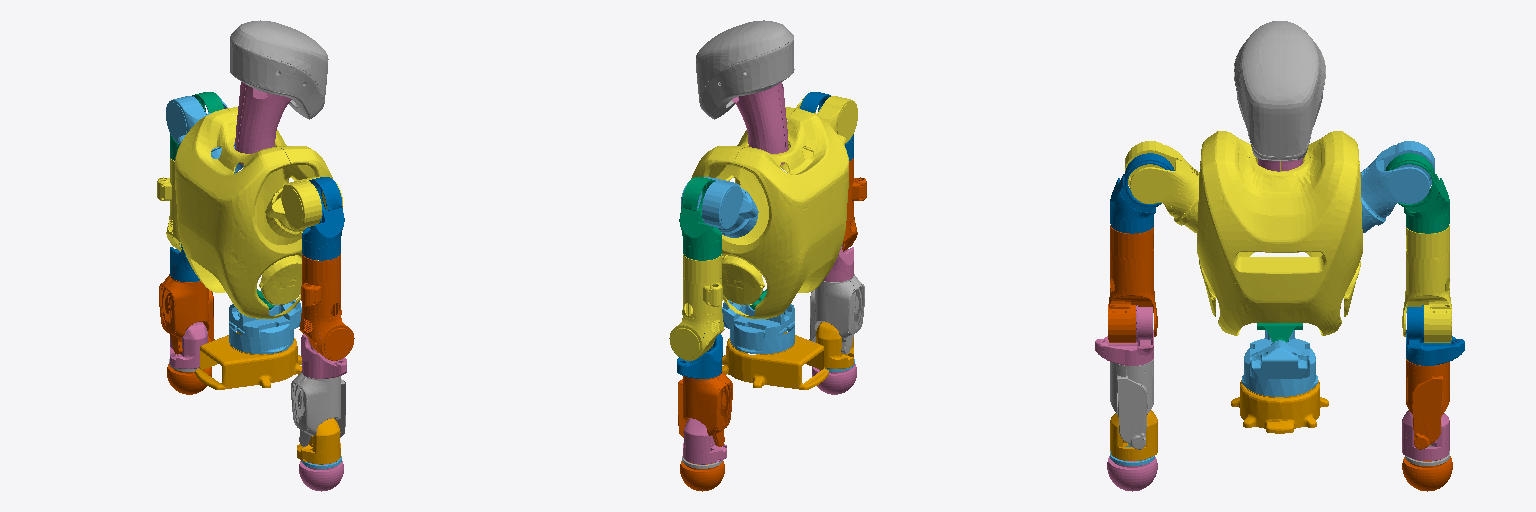
--- Facts derived from the render (not from the file) ---
3 views of the same robot in one strip: view 1: azimuth 30°, elevation 25°; view 2: azimuth 150°, elevation 25°; view 3: azimuth 270°, elevation 25° (orthographic).
Model alex_nub_hands with 31 links and 30 joints (19 revolute, 11 fixed), rooted at Pelvis, posed all joints at 0.
Links seen in each view (by area): view 1: Torso, Head, RightShoulderYawLink, Pelvis, RightWristYawLink, LeftWristYawLink, SpineYawLink, NeckYawLink, RightShoulderPitchLink, RightShoulderRollLink, LeftShoulderPitchLink, RightWristRollLink (+7 smaller); view 2: Torso, Head, LeftShoulderYawLink, Pelvis, LeftWristYawLink, RightWristYawLink, SpineYawLink, NeckYawLink, LeftShoulderPitchLink, LeftShoulderRollLink, RightShoulderPitchLink, LeftWristRollLink (+7 smaller); view 3: Torso, Head, RightShoulderYawLink, LeftShoulderYawLink, RightShoulderPitchLink, LeftShoulderPitchLink, SpineYawLink, Pelvis, LeftWristYawLink, RightWristYawLink, LeftShoulderRollLink, RightShoulderRollLink (+7 smaller).
Boxes of the visible links, x1,y1,x2,y2 form: Torso: (175, 107, 332, 318); Head: (230, 20, 328, 119); RightShoulderYawLink: (299, 254, 354, 360); Pelvis: (195, 332, 301, 389); RightWristYawLink: (291, 371, 345, 446); LeftWristYawLink: (159, 274, 214, 354); SpineYawLink: (229, 300, 301, 353); NeckYawLink: (235, 82, 291, 164); RightShoulderPitchLink: (265, 177, 342, 237); RightShoulderRollLink: (302, 177, 344, 260); LeftShoulderPitchLink: (166, 96, 243, 173); RightWristRollLink: (297, 418, 340, 464); Torso: (691, 107, 848, 318); Head: (696, 20, 794, 119); LeftShoulderYawLink: (669, 254, 724, 360); Pelvis: (722, 332, 828, 389); LeftWristYawLink: (678, 371, 732, 446); RightWristYawLink: (809, 274, 864, 354); SpineYawLink: (722, 300, 794, 353); NeckYawLink: (732, 82, 788, 164); LeftShoulderPitchLink: (681, 177, 758, 237); LeftShoulderRollLink: (679, 177, 721, 260); RightShoulderPitchLink: (780, 96, 857, 173); LeftWristRollLink: (683, 418, 726, 464); Torso: (1197, 131, 1362, 335); Head: (1234, 21, 1325, 160); RightShoulderYawLink: (1108, 225, 1157, 342); LeftShoulderYawLink: (1402, 225, 1451, 342); RightShoulderPitchLink: (1125, 141, 1198, 232); LeftShoulderPitchLink: (1361, 141, 1434, 232); SpineYawLink: (1242, 330, 1317, 396); Pelvis: (1231, 380, 1328, 433); LeftWristYawLink: (1406, 359, 1449, 449); RightWristYawLink: (1110, 359, 1153, 449); LeftShoulderRollLink: (1385, 153, 1449, 233); RightShoulderRollLink: (1110, 153, 1174, 233).
Size in the robot's own frame: 0.3163 by 0.7309 by 1.01 metres.
22 mesh visuals loaded from 21 distinct referenced files (21 OBJ).

The robot description file, URDF, robot "alex_nub_hands":
<?xml version = "1.0" ?>
<!-- =================================================================================== -->
<!-- |    This document was autogenerated by xacro from robot.xacro                    | -->
<!-- |    EDITING THIS FILE BY HAND IS NOT RECOMMENDED                                 | -->
<!-- =================================================================================== -->
<robot name="alex_nub_hands">

		<!-- 8020 Base, Chest and Head -->
	<link name="Pelvis">
		<inertial>
			<mass value="4.074"/>
			<origin rpy="0 0 0" xyz="-0.010295 -0.001599 0.056458"/>
			<inertia ixx="0.010219858" ixy="-0.00012501" ixz="-0.001101619" iyy="0.015397437" iyz="-0.000162984" izz="0.015996955" />
		</inertial>
		<visual>
			<geometry>
				<mesh filename="package://example-robot-data/robots/alex_description/meshes/ALX02_02_A01_BaseLink.obj"/>
			</geometry>
			<origin rpy="0.0 0.0 0.0" xyz="0.0 0.0 0.0"/>
		</visual>
	<collision>
      <origin xyz="0 0 0.0" rpy="0 0 0" />
      <geometry>
        <mesh filename="package://example-robot-data/robots/alex_description/meshes/ALX02_02_A01_BaseLink.obj" />
      </geometry>
    </collision>
	</link>
	<!-- Spine Joints -->
	<joint name="SpineYaw" type="revolute">
		<origin rpy="0 0 0" xyz="0 0 0.1045" />
		<axis xyz="0 0 1" />
		<parent link="Pelvis" />
		<child link="SpineYawLink" />
		<limit effort="150" lower="-1.0472" upper="1.0472" velocity = "9.0" />
		<dynamics damping="0.05" friction="0.0"/>
    </joint>

	<joint name="SpineRoll" type="revolute">
		<origin rpy="0 0 0" xyz="-0.015 0 0.0528" />
		<axis xyz="1 0 0" />
		<parent link="SpineYawLink" />
		<child link="SpineRollLink" />
		<limit effort="150.0" lower="-0.436332" upper="0.436332" velocity = "6.0" />
		<dynamics damping="0.05" friction="0.0"/>
	</joint>

	<joint name="SpinePitch" type="revolute">
		<origin rpy="0 0 0" xyz="0 0 0.035" />
		<axis xyz="0 1 0" />
		<parent link="SpineRollLink" />
		<child link="Torso" />
		<limit effort="250.0" lower="-0.523599" upper="0.785398" velocity = "6.0" />
		<dynamics damping="0.05" friction="0.0"/>
	</joint>

	<!-- Spine Links -->
	<link name="SpineYawLink">
		<inertial>
			<mass value="1.839"/>
			<origin rpy="0 0 0" xyz="0.00785 0.001802 0.030654"/>
			<inertia ixx="0.005450626" ixy="0.000208526" ixz="-0.001171705" iyy="0.007137808" iyz="0.000116812" izz="0.006970545"/>
		</inertial>
		<visual>
			<geometry>
				<mesh filename="package://example-robot-data/robots/alex_description/meshes/ALX02_02_A04_BaseDiffLink.obj"/>
			</geometry>
			<origin rpy="0.0 0.0 0.0" xyz="0.0 0.0 0.0"/>
		</visual>
	<collision>
      <origin xyz="0 0 0.0" rpy="0 0 0" />
      <geometry>
        <mesh filename="package://example-robot-data/robots/alex_description/meshes/ALX02_02_A04_BaseDiffLink.obj" />
      </geometry>
    </collision>
	</link>

	<link name="SpineRollLink">
		<inertial>
			<mass value="0.235"/>
			<origin rpy="0 0 0" xyz="0.000674 0.000626 0.018996"/>
			<inertia ixx="0.000188204" ixy="0.000000058" ixz="0.000002065" iyy="0.000148152" iyz="-0.000002403" izz="0.000195223"/>
		</inertial>
		<visual>
			<geometry>
				<mesh filename="package://example-robot-data/robots/alex_description/meshes/ALX02_02_A05_UJointLink.obj"/>
			</geometry>
			<origin rpy="0.0 0.0 0.0" xyz="0.0 0.0 0.0"/>
		</visual>
	<collision>
      <origin xyz="0 0 0.0" rpy="0 0 0" />
      <geometry>
        <mesh filename="package://example-robot-data/robots/alex_description/meshes/ALX02_02_A05_UJointLink.obj" />
      </geometry>
    </collision>
	</link>

	<!-- Torso Link -->
	<link name="Torso">
		<inertial>
			<mass value="17.574"/>
			<origin rpy="0 0 0" xyz="0.003673 0.000059 0.160289"/>
			<inertia ixx="0.24725248" ixy="-0.000080922" ixz="0.000927935" iyy="0.158680043" iyz="0.000328726" izz="0.153487995"/>
		</inertial>
		<visual>
			<geometry>
				<mesh filename="package://example-robot-data/robots/alex_description/meshes/ALX02_02_A06_TorsoLink.obj"/>
			</geometry>
			<origin rpy="0.0 0.0 0.0" xyz="0.0 0.0 0.0"/>
		</visual>
	<collision>
      <origin xyz="0 0 0.0" rpy="0 0 0" />
      <geometry>
        <mesh filename="package://example-robot-data/robots/alex_description/meshes/ALX02_02_A06_TorsoLink.obj" />
      </geometry>
    </collision>
	</link>

	<!-- TORSO IMU's NOTE: The torso IMUs are redundant-->
	<!-- Torso Left IMU. Currently not used for anything-->
	<link name="TorsoLeftIMULink">
		<inertial>
			<mass value="0"/>
			<origin rpy="0 0 0" xyz="0 0 0"/>
			<inertia ixx="0.0" ixy="0.0" ixz="0.0" iyy="0.0" iyz="0.0" izz="0.0"/>
		</inertial>
	</link>
	<joint name="TorsoLeftIMUJoint" type="fixed">
		<origin rpy="1.5707963267948966 -0.6981317007977316 1.5707963267948961" xyz="0.07978495 0.10932294 0.17623744"/>
		<axis xyz="0 0 1"/>
		<parent link="Torso"/>
		<child link="TorsoLeftIMULink"/>
	</joint>
	<gazebo reference="TorsoLeftIMULink">
		<sensor name="TorsoLeftIMU" type="imu">
			<always_on>true</always_on>
			<imu>
				<noise>
					<type>gaussian</type>
					<rate>
						<mean>0</mean>
						<stddev>0.0002</stddev>
						<bias_mean>7.5e-06</bias_mean>
						<bias_stddev>8e-07</bias_stddev>
					</rate>
					<accel>
						<mean>0</mean>
						<stddev>0.017</stddev>
						<bias_mean>0.1</bias_mean>
						<bias_stddev>0.001</bias_stddev>
					</accel>
				</noise>
			</imu>
		</sensor>
	</gazebo>

	<!-- Torso Right IMU. Currently not used for anything-->
	<link name="TorsoRightIMULink">
		<inertial>
			<mass value="0"/>
			<origin rpy="0 0 0" xyz="0 0 0"/>
			<inertia ixx="0.0" ixy="0.0" ixz="0.0" iyy="0.0" iyz="0.0" izz="0.0"/>
		</inertial>
	</link>
	<joint name="TorsoRightIMUJoint" type="fixed">
		<origin rpy="1.5707963267948966 0.6981317007977319 1.5707963267948966" xyz="0.07978495 -0.09055680 0.16048643"/>
		<axis xyz="0 0 1"/>
		<parent link="Torso"/>
		<child link="TorsoRightIMULink"/>
	</joint>
	<gazebo reference="TorsoRightIMULink">
		<sensor name="TorsoRightIMU" type="imu">
			<always_on>true</always_on>
			<imu>
				<noise>
					<type>gaussian</type>
					<rate>
						<mean>0</mean>
						<stddev>0.0002</stddev>
						<bias_mean>7.5e-06</bias_mean>
						<bias_stddev>8e-07</bias_stddev>
					</rate>
					<accel>
						<mean>0</mean>
						<stddev>0.017</stddev>
						<bias_mean>0.1</bias_mean>
						<bias_stddev>0.001</bias_stddev>
					</accel>
				</noise>
			</imu>
		</sensor>
	</gazebo>

	<!-- Neck Joints -->
	<joint name="NeckYaw" type="revolute">
		<origin rpy="0 0 0" xyz="0 0 0.307953" /> <!-- placeholder for the joint location -->
		<axis xyz="0 0 1" />
		<parent link="Torso" />
		<child link="NeckYawLink" />
		<limit effort="20" lower="-1.5708" upper="1.5708" velocity = "20" />
		<dynamics damping="0.05" friction="0.0"/>
	</joint>

	<joint name="NeckPitch" type="revolute">
		<origin rpy="0 0 0" xyz="0.025 0.01 0.207252" />
		<axis xyz="0 1 0" />
		<parent link="NeckYawLink" />
		<child link="Head" />
		<limit effort="20" lower="-1.0472" upper="1.0472" velocity = "20" />
		<dynamics damping="0.05" friction="0.0"/>
	</joint>

	<!--	 Neck and Head -->
	<!--	 Inertia data is a placeholder -->
	<link name="NeckYawLink">
		<inertial>
			<mass value="1.141"/>
			<origin rpy="0 0 0" xyz="0.007143 0.006943 0.109823"/>
			<inertia ixx="0.007475898" ixy="-0.000075723" ixz="-0.000745362" iyy="0.007407578" iyz="-0.000436948" izz="0.00109269" />
		</inertial>
		<visual>
			<geometry>
				<mesh filename="package://example-robot-data/robots/alex_description/meshes/ALX02_01_A03_NeckLink.obj"/>
			</geometry>
			<origin rpy="0.0 0.0 0.0" xyz="0.0 0.0 0.0"/>
		</visual>
	<collision>
      <origin xyz="0 0 0.0" rpy="0 0 0" />
      <geometry>
        <mesh filename="package://example-robot-data/robots/alex_description/meshes/ALX02_01_A03_NeckLink.obj" />
      </geometry>
    </collision>
	</link>

	<link name="Head">
		<inertial>
			<mass value="1.677"/>
			<origin rpy="0 0 0" xyz="0.03237 -0.013568 0.007163"/>
			<inertia ixx="0.006026191" ixy="-0.000197484" ixz="0.001813659" iyy="0.008182071" iyz="-0.000042529" izz="0.00644909"/>
		</inertial>
		<visual>
			<geometry>
				<mesh filename="package://example-robot-data/robots/alex_description/meshes/ALX02_01_A02_HeadLink.obj"/>
			</geometry>
			<origin rpy="0.0 0.0 0.0" xyz="0.0 0.0 0.0"/>
		</visual>
	<collision>
      <origin xyz="0 0 0.0" rpy="0 0 0" />
      <geometry>
        <mesh filename="package://example-robot-data/robots/alex_description/meshes/ALX02_01_A02_HeadLink.obj" />
      </geometry>
    </collision>
	</link>

	<!-- NeckBaseIMU-->
	<!-- this is an IMU on top of the Neck yaw motor controller board-->
	<link name="TorsoIMULink">
		<inertial>
			<mass value="0"/>
			<origin rpy="0 0 0" xyz="0 0 0"/>
			<inertia ixx="0.0" ixy="0.0" ixz="0.0" iyy="0.0" iyz="0.0" izz="0.0"/>
		</inertial>
	</link>
	<joint name="TorsoIMUJoint" type="fixed">
		<origin rpy="0 0 -1.5707963267948966" xyz="0.00399725 -0.01225021 0.24512039"/>
		<axis xyz="0 0 1"/>
		<parent link="Torso"/>
		<child link="TorsoIMULink"/>
	</joint>
	<gazebo reference="TorsoIMULink">
		<sensor name="TorsoIMU" type="imu">
			<always_on>true</always_on>
			<imu>
				<noise>
					<type>gaussian</type>
					<rate>
						<mean>0</mean>
						<stddev>0.0002</stddev>
						<bias_mean>7.5e-06</bias_mean>
						<bias_stddev>8e-07</bias_stddev>
					</rate>
					<accel>
						<mean>0</mean>
						<stddev>0.017</stddev>
						<bias_mean>0.1</bias_mean>
						<bias_stddev>0.001</bias_stddev>
					</accel>
				</noise>
			</imu>
		</sensor>
	</gazebo>

	<!-- LEFT ARM -->
	<!-- left upper arm joints -->
	<joint name="LeftShoulderPitch" type="revolute">
		<origin xyz="0 0.12799 0.235694" rpy="0.698132 0.0 0.0"   />
		<axis xyz="0.0 1.0 0.0" />
		<parent link="Torso" />
		<child link="LeftShoulderPitchLink" />
		<limit effort="150.0" lower="-3.141592" upper="1.22173" velocity = "9.0" />
		<dynamics damping="0.05" friction="0.0"/>
	</joint>

	<joint name="LeftShoulderRoll" type="revolute">
		<origin rpy="-0.698132 0.0 0.0" xyz="0.0 0.15676000 -0.01300000" />
		<axis xyz="1 0 0" />
		<parent link="LeftShoulderPitchLink" />
		<child link="LeftShoulderRollLink" />
		<limit effort="150.0" lower="-0.349066" upper="2.79253" velocity = "9.0" />
		<dynamics damping="0.05" friction="0.0"/>
	</joint>

	<joint name="LeftShoulderYaw" type="revolute">
		<origin rpy="0.0 0.0 0.0" xyz="0.0 0.035 0.0" />
		<axis xyz="0.0 0.0 1.0" />
		<parent link="LeftShoulderRollLink" />
		<child link="LeftShoulderYawLink" />
		<limit effort="80.0" lower="-1.91986" upper="1.22173" velocity = "11.5" />
		<dynamics damping="0.05" friction="0.0"/>
	</joint>

	<joint name="LeftElbowPitch" type="revolute">
		<origin rpy="0.0 0.0 0.0" xyz="0.015 0.0 -0.3127" />
		<axis xyz="0.0 1.0 0.0" />
		<parent link="LeftShoulderYawLink" />
		<child link="LeftElbowPitchLink" />
		<limit effort="80.0" lower="-2.35619" upper="0.174532925" velocity = "11.5" />
		<dynamics damping="0.05" friction="0.0"/>
	</joint>

	<!-- left wrist joints -->
	<joint name="LeftWristYaw" type="revolute">
		<origin xyz="-0.015 0.0 0.0" rpy="0.0 0.0 0.0"   />
		<axis xyz="0.0 0.0 1.0" />
		<parent link="LeftElbowPitchLink" />
		<child link="LeftWristYawLink" />
		<limit effort="20.0" lower="-2.61799" upper="2.61799" velocity = "25.0" />
		<dynamics damping="0.05" friction="0.0"/>
	</joint>

	<joint name="LeftWristRoll" type="revolute">
		<origin xyz="0.0 -0.013 -0.25" rpy="0.0 0.0 0.0"/>
		<axis xyz="1 0 0" />
		<parent link="LeftWristYawLink" />
		<child link="LeftWristRollLink" />
		<limit effort="20.0" lower="-1.8326" upper="0.610865" velocity = "25.0" />
		<dynamics damping="0.05" friction="0.0"/>
	</joint>

	<joint name="LeftGripperYaw" type="revolute">
		<origin xyz="0.0 0.013 -0.031" rpy="0.0 0.0 0.0" />
		<axis xyz="0.0 0.0 1.0" />
		<parent link="LeftWristRollLink" />
		<child link="LeftGripperYawLink" />
		<limit effort="20.0" lower="-2.61799" upper="2.61799" velocity = "25.0" />
		<dynamics damping="0.05" friction="0.0"/>
	</joint>

	<!-- left upper arm links -->
	<link name="LeftShoulderPitchLink">
		<inertial>
			<mass value="2.99"/>
			<origin
					rpy="0 0 0"
					xyz="-0.00264 0.12135 -0.006824"/>
			<inertia ixx="0.0111046" ixy="0.0002882" ixz="-0.000054" iyy="0.0051699" iyz="0.0009318" izz="0.01176" />
		</inertial>
		<visual>
			<geometry>
				<mesh filename="package://example-robot-data/robots/alex_description/meshes/cycloidal_arm/LeftShoulderPitchLink.obj"/>
			</geometry>
			<origin rpy="0.0 0.0 0.0" xyz="0.0 0.0 0.0"/>
		</visual>
	<collision>
      <origin xyz="0 0 0.0" rpy="0 0 0" />
      <geometry>
        <mesh filename="package://example-robot-data/robots/alex_description/meshes/cycloidal_arm/LeftShoulderPitchLink.obj" />
      </geometry>
    </collision>
	</link>

	<link name="LeftShoulderRollLink">
		<inertial>
			<mass value="0.972"/>
			<origin
					rpy="0 0 0"
					xyz="0.01251711 0.0188309 -0.03849849"/>
			<inertia ixx="0.0029485" ixy="0.0001386" ixz="-0.0003345" iyy="0.0023587" iyz="0.0005255" izz="0.0014366" />
		</inertial>
		<visual>
			<geometry>
				<mesh filename="package://example-robot-data/robots/alex_description/meshes/cycloidal_arm/LeftShoulderRollLink_shortBicep.obj"/>
			</geometry>
			<origin rpy="0.0 0.0 0.0" xyz="0.0 0.0 0.0"/>
		</visual>
	<collision>
      <origin xyz="0 0 0.0" rpy="0 0 0" />
      <geometry>
        <mesh filename="package://example-robot-data/robots/alex_description/meshes/cycloidal_arm/LeftShoulderRollLink_shortBicep.obj" />
      </geometry>
    </collision>
	</link>

	<link name="LeftShoulderYawLink">
		<inertial>
			<mass value="2.91"/>
			<origin
					rpy="0 0 0"
					xyz="0.00510403 0.00314332 -0.21695413"/>
			<inertia ixx="0.0267829" ixy="-0.000011" ixz="0.0015998" iyy="0.0265514" iyz="0.0004426" izz="0.003052" />
		</inertial>
		<visual>
			<geometry>
				<mesh filename="package://example-robot-data/robots/alex_description/meshes/cycloidal_arm/LeftShoulderYawLink.obj"/>
			</geometry>
			<origin rpy="0.0 0.0 0.0" xyz="0.0 0.0 0.0867"/>
		</visual>
	<collision>
      <origin xyz="0 0 0.0" rpy="0 0 0" />
      <geometry>
        <mesh filename="package://example-robot-data/robots/alex_description/meshes/cycloidal_arm/LeftShoulderYawLink.obj" />
      </geometry>
    </collision>
	</link>

	<!-- left wrist links -->
	<link name="LeftElbowPitchLink">
		<inertial>
			<mass value="0.45"/>
			<origin
					rpy="0 0 0"
					xyz="-0.01180322 -0.0035763 -0.04946747"/>

			<inertia ixx="0.0007362" ixy="-0.0000088" ixz="-0.0000292" iyy="0.0006567" iyz="0.0001499" izz="0.0004897" />
		</inertial>
		<visual>
			<geometry>
				<mesh filename="package://example-robot-data/robots/alex_description/meshes/cycloidal_arm/LeftElbowPitchLink.obj"/>
			</geometry>
			<origin rpy="0.0 0.0 0.0" xyz="0.0 0.0 0.0"/>
		</visual>
	<collision>
      <origin xyz="0 0 0.0" rpy="0 0 0" />
      <geometry>
        <mesh filename="package://example-robot-data/robots/alex_description/meshes/cycloidal_arm/LeftElbowPitchLink.obj" />
      </geometry>
    </collision>
	</link>

	<link name="LeftWristYawLink">
		<inertial>
			<mass value="1.547"/> <!-- This is a measured value. Refer to https://docs.google.com/spreadsheets/d/1VXWFJk3VJUsfkHrDaytB2INq94un1KytIOzcKJD0p44/edit?gid=0#gid=0  -->
			<origin
					rpy="0 0 0"
					xyz="-0.00263832 -0.00050534 -0.13018376"/>

			<inertia ixx="0.0037869" ixy="0.0000163" ixz="-0.0000252" iyy="0.004071" iyz="-0.0000924" izz="0.0015203" />
		</inertial>
		<visual>
			<geometry>
				<mesh filename="package://example-robot-data/robots/alex_description/meshes/cycloidal_arm/LeftWristYawLink.obj"/>
			</geometry>
			<origin rpy="0.0 0.0 0.0" xyz="0.0 0.0 0.0"/>
		</visual>
	<collision>
      <origin xyz="0 0 0.0" rpy="0 0 0" />
      <geometry>
        <mesh filename="package://example-robot-data/robots/alex_description/meshes/cycloidal_arm/LeftWristYawLink.obj" />
      </geometry>
    </collision>
	</link>


	<link name="LeftWristRollLink">
		<inertial>
			<mass value="0.909"/> <!-- This is a measured value. Refer to https://docs.google.com/spreadsheets/d/1VXWFJk3VJUsfkHrDaytB2INq94un1KytIOzcKJD0p44/edit?gid=0#gid=0  -->
			<origin
					rpy="0 0 0"
					xyz="0.00004053 0.01038395 0.00035532"/>

			<inertia ixx="0.000477" ixy="-0.0000079" ixz="-0.0000097" iyy="0.0004902" iyz="-0.0000008" izz="0.000514" />
		</inertial>

		<visual>
			<geometry>
				<mesh filename="package://example-robot-data/robots/alex_description/meshes/cycloidal_arm/LeftWristRollLink.obj"/>
			</geometry>
			<origin rpy="0.0 0.0 0.0" xyz="0.0 0.0 0.0"/>
		</visual>
	<collision>
      <origin xyz="0 0 0.0" rpy="0 0 0" />
      <geometry>
        <mesh filename="package://example-robot-data/robots/alex_description/meshes/cycloidal_arm/LeftWristRollLink.obj" />
      </geometry>
    </collision>
	</link>


	<link name="LeftGripperYawLink">
		<inertial>
			<mass value="0.251"/>
			<origin
					rpy="0 0 0"
					xyz="-0.000217 -0.000349 0.009761"/>
			<inertia ixx="0.0000722" ixy="-0.0000016" ixz="-0.0000037" iyy="0.0000747" iyz="0.0000004" izz="0.0000324" />
		</inertial>
		<visual>
			<geometry>
				<mesh filename="package://example-robot-data/robots/alex_description/meshes/cycloidal_arm/LeftGripperYawLink.obj"/>
			</geometry>
			<origin rpy="0.0 0.0 0.0" xyz="0.0 0.0 0.0"/>
		</visual>
	<collision>
      <origin xyz="0 0 0.0" rpy="0 0 0" />
      <geometry>
        <mesh filename="package://example-robot-data/robots/alex_description/meshes/cycloidal_arm/LeftGripperYawLink.obj" />
      </geometry>
    </collision>
	</link>

	<!-- LEFT ARM IMU's -->
	<!-- Left Shoulder Pitch IMU Information -->
	<link name="LeftShoulderPitchIMULink">
		<inertial>
			<mass value="0"/>
			<origin rpy="0 0 0" xyz="0 0 0"/>
			<inertia ixx="0.0" ixy="0.0" ixz="0.0" iyy="0.0" iyz="0.0" izz="0.0"/>
		</inertial>
	</link>
	<joint name="LeftShoulderPitchIMUJoint" type="fixed">
		<origin rpy="-3.141592 0 -1.57079632679" xyz="0.01432621 0.0755071 -0.00245783"/>
		<axis xyz="0 0 1"/>
		<parent link="LeftShoulderPitchLink"/>
		<child link="LeftShoulderPitchIMULink"/>
	</joint>
	<gazebo reference="LeftShoulderPitchIMULink">
		<sensor name="LeftShoulderPitchIMU" type="imu">
			<always_on>true</always_on>
			<imu>
				<noise>
					<type>gaussian</type>
					<rate>
						<mean>0</mean>
						<stddev>0.0002</stddev>
						<bias_mean>7.5e-06</bias_mean>
						<bias_stddev>8e-07</bias_stddev>
					</rate>
					<accel>
						<mean>0</mean>
						<stddev>0.017</stddev>
						<bias_mean>0.1</bias_mean>
						<bias_stddev>0.001</bias_stddev>
					</accel>
				</noise>
			</imu>
		</sensor>
	</gazebo>

	<!-- Left ShoulderYaw IMU Note: in CAD this is the left bicep IMU -->
	<link name="LeftShoulderYawIMULink">
		<inertial>
			<mass value="0"/>
			<origin rpy="0 0 0" xyz="0 0 0"/>
			<inertia ixx="0.0" ixy="0.0" ixz="0.0" iyy="0.0" iyz="0.0" izz="0.0"/>
		</inertial>
	</link>
	<joint name="LeftShoulderYawIMUJoint" type="fixed">
		<origin rpy="1.570796 3.1415926 -0.314159" xyz="-0.00633723 -0.00669505 -0.19881468"/>
		<axis xyz="0 0 1"/>
		<parent link="LeftShoulderYawLink"/>
		<child link="LeftShoulderYawIMULink"/>
	</joint>
	<gazebo reference="LeftShoulderYawIMULink">
		<sensor name="LeftShoulderYawIMU" type="imu">
			<always_on>true</always_on>
			<pose>0 0 0 0 0 0</pose>
			<imu>
				<noise>
					<type>gaussian</type>
					<rate>
						<mean>0</mean>
						<stddev>0.0002</stddev>
						<bias_mean>7.5e-06</bias_mean>
						<bias_stddev>8e-07</bias_stddev>
					</rate>
					<accel>
						<mean>0</mean>
						<stddev>0.017</stddev>
						<bias_mean>0.1</bias_mean>
						<bias_stddev>0.001</bias_stddev>
					</accel>
				</noise>
			</imu>
		</sensor>
	</gazebo>

	<!-- Left Wrist Yaw IMU Note: in CAD this is the left bicep IMU -->
	<link name="LeftWristYawIMULink">
		<inertial>
			<mass value="0"/>
			<origin rpy="0 0 0" xyz="0 0 0"/>
			<inertia ixx="0.0" ixy="0.0" ixz="0.0" iyy="0.0" iyz="0.0" izz="0.0"/>
		</inertial>
	</link>

	<joint name="LeftWristYawIMUJoint" type="fixed">
		<origin rpy="1.571  0.0 1.571" xyz="-0.048986 0.011658 -0.149476"/>
		<axis xyz="0 0 1"/>
		<parent link="LeftWristYawLink"/>
		<child link="LeftWristYawIMULink"/>
	</joint>

	<gazebo reference="LeftWristYawIMULink">
		<sensor name="LeftWristYawIMU" type="imu">
			<always_on>true</always_on>
			<imu> <!-- placeholder tag for IMU --> </imu>
		</sensor>
	</gazebo>

	<!-- RIGHT ARM -->
	<!-- Right Upper Arm Joints -->
	<joint name="RightShoulderPitch" type="revolute">
		<origin xyz="0 -0.12799 0.235694" rpy="-0.698132 0.0 0.0"   />
		<axis xyz="0.0 1.0 0.0" />
		<parent link="Torso" />
		<child link="RightShoulderPitchLink" />
		<limit effort="1000" lower="-3.141592" upper="1.22173" velocity = "100" />
		<dynamics damping="0.05" friction="0.0"/>
	</joint>
	<joint name="RightShoulderRoll" type="revolute">
		<origin rpy="0.698132 0.0 0.0" xyz="0.0 -0.15676000 -0.01300000" />
		<axis xyz="1 0 0" />
		<parent link="RightShoulderPitchLink" />
		<child link="RightShoulderRollLink" />
		<limit effort="1000" lower="-2.79253" upper="0.349066" velocity = "100" />
		<dynamics damping="0.05" friction="0.0"/>
	</joint>
	<joint name="RightShoulderYaw" type="revolute">
		<origin rpy="0.0 0.0 0.0" xyz="0.0 -0.035 0.0" />
		<axis xyz="0.0 0.0 1.0" />
		<parent link="RightShoulderRollLink" />
		<child link="RightShoulderYawLink" />
		<limit effort="1000" lower="-1.22173" upper="1.91986" velocity = "100" />
		<dynamics damping="0.05" friction="0.0"/>
	</joint>
	<joint name="RightElbowPitch" type="revolute">
		<origin rpy="0.0 0.0 0.0" xyz="0.015 0.0 -0.3127" />
		<axis xyz="0.0 1.0 0.0" />
		<parent link="RightShoulderYawLink" />
		<child link="RightElbowPitchLink" />
		<limit effort="1000" lower="-2.35619" upper="0.174532925" velocity = "100" />
		<dynamics damping="0.05" friction="0.0"/>
	</joint>

	<!-- Right wrist joints -->
	<joint name="RightWristYaw" type="revolute">
		<origin xyz="-0.015 0.0 0.0" rpy="0.0 0.0 0.0"   />
		<axis xyz="0.0 0.0 1.0" />
		<parent link="RightElbowPitchLink" />
		<child link="RightWristYawLink" />
		<limit effort="20.0" lower="-2.61799" upper="2.61799" velocity = "25.0" />
		<dynamics damping="0.05" friction="0.0"/>
	</joint>

	<joint name="RightWristRoll" type="revolute">
		<origin xyz="0.0 0.013 -0.25" rpy="0.0 0.0 0.0"/>
		<axis xyz="1 0 0" />
		<parent link="RightWristYawLink" />
		<child link="RightWristRollLink" />
		<limit effort="20.0" lower="-0.610865" upper="1.8326" velocity = "25.0" />
		<dynamics damping="0.05" friction="0.0"/>
	</joint>

	<joint name="RightGripperYaw" type="revolute">
		<origin xyz="0.0 -0.013 -0.031" rpy="0.0 0.0 0.0" />
		<axis xyz="0.0 0.0 1.0" />
		<parent link="RightWristRollLink" />
		<child link="RightGripperYawLink" />
		<limit effort="20.0" lower="-2.61799" upper="2.61799" velocity = "25.0" />
		<dynamics damping="0.05" friction="0.0"/>
	</joint>

	<!-- Right Upper Arm Links -->
	<link name="RightShoulderPitchLink">
		<inertial>
			<mass value="2.99"/>
			<origin rpy="0 0 0" xyz="-0.00264 -0.12135 -0.006824"/>
			<inertia ixx="0.0110394" ixy="-0.0003041" ixz="-0.0000594" iyy="0.0051097" iyz="-0.0009183" izz="0.0116925" />
		</inertial>
		<visual>
			<geometry>
				<mesh filename="package://example-robot-data/robots/alex_description/meshes/cycloidal_arm/RightShoulderPitchLink.obj"/>
			</geometry>
			<origin rpy="0.0 0.0 0.0" xyz="0.0 0.0 0.0"/>
		</visual>
	<collision>
      <origin xyz="0 0 0.0" rpy="0 0 0" />
      <geometry>
        <mesh filename="package://example-robot-data/robots/alex_description/meshes/cycloidal_arm/RightShoulderPitchLink.obj" />
      </geometry>
    </collision>
	</link>

	<link name="RightShoulderRollLink">
		<inertial>
			<mass value="0.972"/>
			<origin rpy="0 0 0" xyz="0.012489 -0.01882 -0.0385"/>
			<inertia ixx="0.002949" ixy="-0.000135" ixz="-0.0003358" iyy="0.0023603" iyz="-0.0005249" izz="0.0014377" />
		</inertial>
		<visual>
			<geometry>
				<mesh filename="package://example-robot-data/robots/alex_description/meshes/cycloidal_arm/RightShoulderRollLink_shortBicep.obj"/>
			</geometry>
			<origin rpy="0.0 0.0 0.0" xyz="0.0 0.0 0.0"/>
		</visual>
	<collision>
      <origin xyz="0 0 0.0" rpy="0 0 0" />
      <geometry>
        <mesh filename="package://example-robot-data/robots/alex_description/meshes/cycloidal_arm/RightShoulderRollLink_shortBicep.obj" />
      </geometry>
    </collision>
	</link>

	<link name="RightShoulderYawLink">
		<inertial>
			<mass value="2.91"/>
			<origin rpy="0 0 0" xyz="0.00524 -0.00274 -0.21745"/>
			<inertia ixx="0.0248699" ixy="0.0000211" ixz="0.0000211" iyy="0.0245973" iyz="-0.0004444" izz="0.0029883" />
		</inertial>
		<visual>
			<geometry>
				<mesh filename="package://example-robot-data/robots/alex_description/meshes/cycloidal_arm/RightShoulderYawLink.obj"/>
			</geometry>
			<origin rpy="0.0 0.0 0.0" xyz="0.0 0.0 0.0867"/>
		</visual>
	<collision>
      <origin xyz="0 0 0.0" rpy="0 0 0" />
      <geometry>
        <mesh filename="package://example-robot-data/robots/alex_description/meshes/cycloidal_arm/RightShoulderYawLink.obj" />
      </geometry>
    </collision>
	</link>

	<!-- right wrist links -->
	<link name="RightElbowPitchLink">
		<inertial>
			<mass value="0.45"/>
			<origin xyz="-0.0127 0.006913 -0.048421" rpy="0 0 0"/>
			<inertia ixx="0.0006446" ixy="-0.0000073" ixz="-0.0000345" iyy="0.000625" iyz="-0.0001257" izz="0.0003922" />
		</inertial>
		<visual>
			<geometry>
				<mesh filename="package://example-robot-data/robots/alex_description/meshes/cycloidal_arm/RightElbowPitchLink.obj"/>
			</geometry>
			<origin rpy="0.0 0.0 0.0" xyz="0.0 0.0 0.0"/>
		</visual>
	<collision>
      <origin xyz="0 0 0.0" rpy="0 0 0" />
      <geometry>
        <mesh filename="package://example-robot-data/robots/alex_description/meshes/cycloidal_arm/RightElbowPitchLink.obj" />
      </geometry>
    </collision>
	</link>

	<link name="RightWristYawLink">
		<inertial>
			<mass value="1.547"/> <!-- This is a measured value. Refer to https://docs.google.com/spreadsheets/d/1VXWFJk3VJUsfkHrDaytB2INq94un1KytIOzcKJD0p44/edit?gid=0#gid=0  -->
			<origin xyz="-0.002616 0.000462 -0.13019" rpy="0 0 0"/>
			<inertia ixx="0.0037805" ixy="-0.0000177" ixz="-0.000025" iyy="0.0040639" iyz="0.00009" izz="0.0015151" />
		</inertial>
		<visual>
			<geometry>
				<mesh filename="package://example-robot-data/robots/alex_description/meshes/cycloidal_arm/RightWristYawLink.obj"/>
			</geometry>
			<origin rpy="0.0 0.0 0.0" xyz="0.0 0.0 0.0"/>
		</visual>
	<collision>
      <origin xyz="0 0 0.0" rpy="0 0 0" />
      <geometry>
        <mesh filename="package://example-robot-data/robots/alex_description/meshes/cycloidal_arm/RightWristYawLink.obj" />
      </geometry>
    </collision>
	</link>

	<link name="RightWristRollLink">
		<inertial>
			<mass value="0.909"/> <!-- This is a measured value. Refer to https://docs.google.com/spreadsheets/d/1VXWFJk3VJUsfkHrDaytB2INq94un1KytIOzcKJD0p44/edit?gid=0#gid=0  -->
			<origin xyz="-0.0000481 -0.012143 0.000196" rpy="0 0 0"/>
			<inertia ixx="0.0005535" ixy="0.0000081" ixz="-0.0000231" iyy="0.0005559" iyz="0.0000012" izz="0.0005893" />
		</inertial>
		<visual>
			<geometry>
				<mesh filename="package://example-robot-data/robots/alex_description/meshes/cycloidal_arm/RightWristRollLink.obj"/>
			</geometry>
			<origin rpy="0.0 0.0 0.0" xyz="0.0 0.0 0.0"/>
		</visual>
	<collision>
      <origin xyz="0 0 0.0" rpy="0 0 0" />
      <geometry>
        <mesh filename="package://example-robot-data/robots/alex_description/meshes/cycloidal_arm/RightWristRollLink.obj" />
      </geometry>
    </collision>
	</link>

	<link name="RightGripperYawLink">
		<inertial>
			<mass value="0.251"/>
			<origin rpy="0 0 0" xyz="-0.000217 -0.000349 0.009761"/>
			<inertia ixx="0.0000722" ixy="-0.0000016" ixz="-0.0000037" iyy="0.0000747" iyz="0.0000004" izz="0.0000324" />
		</inertial>
		<visual>
			<geometry>
				<mesh filename="package://example-robot-data/robots/alex_description/meshes/cycloidal_arm/RightGripperYawLink.obj"/>
			</geometry>
			<origin rpy="0.0 0.0 0.0" xyz="0.0 0.0 0.0"/>
		</visual>
	<collision>
      <origin xyz="0 0 0.0" rpy="0 0 0" />
      <geometry>
        <mesh filename="package://example-robot-data/robots/alex_description/meshes/cycloidal_arm/RightGripperYawLink.obj" />
      </geometry>
    </collision>
	</link>
	<!-- Right ARM IMU's -->
	<!-- Right Shoulder Pitch IMU Information -->
	<link name="RightShoulderPitchIMULink">
		<inertial>
			<mass value="0"/>
			<origin rpy="0 0 0" xyz="0 0 0"/>
			<inertia ixx="0.0" ixy="0.0" ixz="0.0" iyy="0.0" iyz="0.0" izz="0.0"/>
		</inertial>
	</link>
	<joint name="RightShoulderPitchIMUJoint" type="fixed">
		<origin rpy="3.141592 0 -1.57079632679" xyz="0.01432621 -0.10001299 -0.00245783"/>
		<axis xyz="0 0 1"/>
		<parent link="RightShoulderPitchLink"/>
		<child link="RightShoulderPitchIMULink"/>
	</joint>
	<gazebo reference="RightShoulderPitchIMULink">
		<sensor name="RightShoulderPitchIMU" type="imu">
			<always_on>true</always_on>
			<imu>
				<noise>
					<type>gaussian</type>
					<rate>
						<mean>0</mean>
						<stddev>0.0002</stddev>
						<bias_mean>7.5e-06</bias_mean>
						<bias_stddev>8e-07</bias_stddev>
					</rate>
					<accel>
						<mean>0</mean>
						<stddev>0.017</stddev>
						<bias_mean>0.1</bias_mean>
						<bias_stddev>0.001</bias_stddev>
					</accel>
				</noise>
			</imu>
		</sensor>
	</gazebo>

	<!-- Right ShoulderYaw IMU Note: in CAD this is the left bicep IMU -->
	<link name="RightShoulderYawIMULink">
		<inertial>
			<mass value="0"/>
			<origin rpy="0 0 0" xyz="0 0 0"/>
			<inertia ixx="0.0" ixy="0.0" ixz="0.0" iyy="0.0" iyz="0.0" izz="0.0"/>
		</inertial>
	</link>
	<joint name="RightShoulderYawIMUJoint" type="fixed">
		<origin rpy="-1.570796 0.0 0.314159" xyz="0.00119168 0.00914134 -0.19881468"/>
		<axis xyz="0 0 1"/>
		<parent link="RightShoulderYawLink"/>
		<child link="RightShoulderYawIMULink"/>
	</joint>
	<gazebo reference="RightShoulderYawIMULink">
		<sensor name="RightShoulderYawIMU" type="imu">
			<always_on>true</always_on>
			<pose>0 0 0 0 0 0</pose>
			<imu>
				<noise>
					<type>gaussian</type>
					<rate>
						<mean>0</mean>
						<stddev>0.0002</stddev>
						<bias_mean>7.5e-06</bias_mean>
						<bias_stddev>8e-07</bias_stddev>
					</rate>
					<accel>
						<mean>0</mean>
						<stddev>0.017</stddev>
						<bias_mean>0.1</bias_mean>
						<bias_stddev>0.001</bias_stddev>
					</accel>
				</noise>
			</imu>
		</sensor>
	</gazebo>

	<!-- Right Wrist Yaw IMU Note: in CAD this is the left bicep IMU -->
	<link name="RightWristYawIMULink">
		<inertial>
			<mass value="0"/>
			<origin rpy="0 0 0" xyz="0 0 0"/>
			<inertia ixx="0.0" ixy="0.0" ixz="0.0" iyy="0.0" iyz="0.0" izz="0.0"/>
		</inertial>
	</link>

	<joint name="RightWristYawIMUJoint" type="fixed">
		<origin rpy="1.571  0.0 1.571" xyz="-0.048986 0.011658 -0.149476"/>
		<axis xyz="0 0 1"/>
		<parent link="RightWristYawLink"/>
		<child link="RightWristYawIMULink"/>
	</joint>

	<gazebo reference="RightWristYawIMULink">
		<sensor name="RightWristYawIMU" type="imu">
			<always_on>true</always_on>
			<imu> <!-- placeholder tag for IMU --> </imu>
		</sensor>
	</gazebo>

<!-- Gripper Fixed Joints -->

	<joint name="LeftGrippertAttachmentFixedJoint" type="fixed">
		<origin rpy="0 0 0" xyz="0 0 -0.0210000"/>
		<parent link="LeftGripperYawLink"/>
		<child link="leftNub"/>
    </joint>
		<joint name="RightGrippertAttachmentFixedJoint" type="fixed">
		<origin rpy="0 0 0" xyz="0 0 -0.0210000"/>
		<parent link="RightGripperYawLink"/>
		<child link="rightNub"/>
    </joint>

	<link name="leftNub">
	  <inertial>
		<mass value="0.1"/>
		<origin rpy="0 0 0" xyz="0.0 0.0 -0.015"/>
		<inertia
		ixx="0.00048728"
		ixy="6e-7"
		ixz="0.0"
		iyy="0.00039365"
		iyz="0.0"
		izz="0.00039397" />
	  </inertial>
	  <visual>
		<geometry>
		  <mesh filename="package://example-robot-data/robots/alex_description/meshes/cycloidal_arm/nub.obj"/>
		</geometry>
		<origin rpy="0.0 1.57 0.0" xyz="0.0 0.0 0.0"/>
	  </visual>
	  	<collision>
      <origin xyz="0 1.57 0.0" rpy="0 0 0" />
      <geometry>
        <mesh filename="package://example-robot-data/robots/alex_description/meshes/cycloidal_arm/nub.obj" />
      </geometry>
    </collision>
	</link>

	<link name="rightNub">
	  <inertial>
		<mass value="0.1"/>
		<origin rpy="0 0 0" xyz="0.0 0.0 -0.015"/>
		<inertia
		ixx="0.00048728"
		ixy="6e-7"
		ixz="0.0"
		iyy="0.00039365"
		iyz="0.0"
		izz="0.00039397" />
	  </inertial>
	  <visual>
		<geometry>
		  <mesh filename="package://example-robot-data/robots/alex_description/meshes/cycloidal_arm/nub.obj"/>
		</geometry>
		<origin rpy="0.0 1.57 0.0" xyz="0.0 0.0 0.0"/>
	  </visual>
	 	<collision>
      <origin xyz="0 1.57 0.0" rpy="0 0 0" />
      <geometry>
        <mesh filename="package://example-robot-data/robots/alex_description/meshes/cycloidal_arm/nub.obj" />
      </geometry>
    </collision>
	</link>

</robot>
